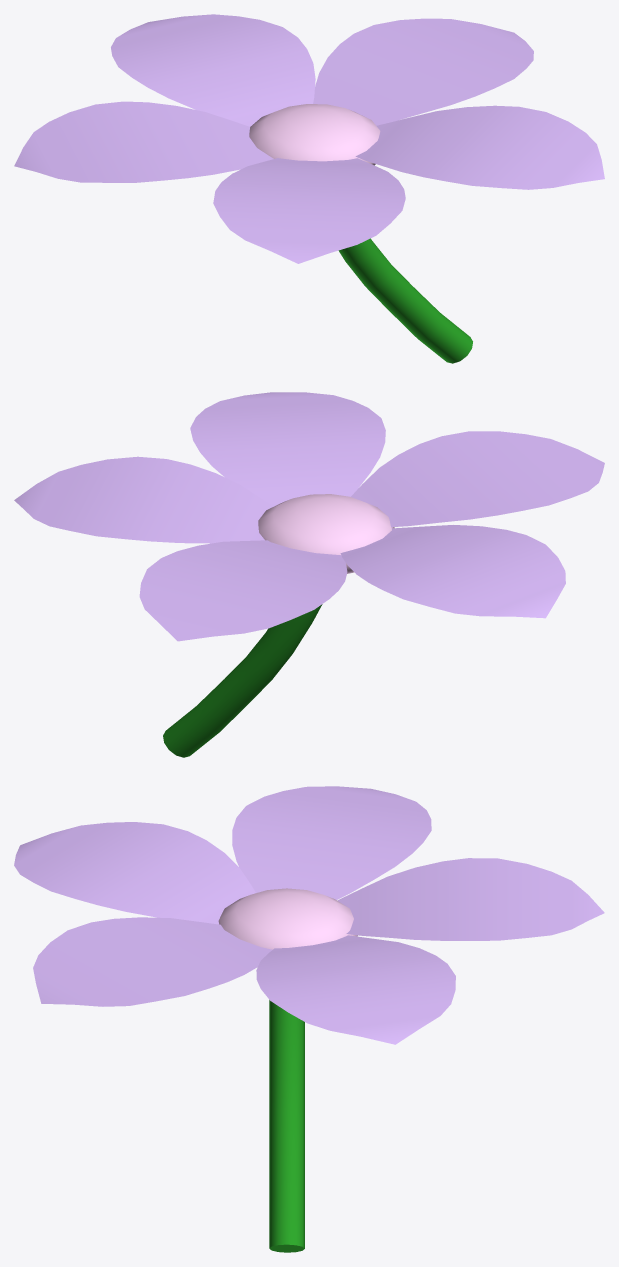
File: FlowerA.fbx
3 views of the same model, one above another, from view 1: azimuth 30°, elevation 25°; view 2: azimuth 150°, elevation 25°; view 3: azimuth 270°, elevation 25° (orthographic). The views are drawn at different scales.
Parts seen in each view (by area): view 1: FlowerA; view 2: FlowerA; view 3: FlowerA.
Boxes of the visible parts, left/top/right/bottom form: FlowerA: left=14, top=14, right=604, bottom=363; FlowerA: left=14, top=392, right=604, bottom=757; FlowerA: left=14, top=786, right=604, bottom=1252.
Size of the model in its own units: 1.31 by 1.27 by 0.6761.
